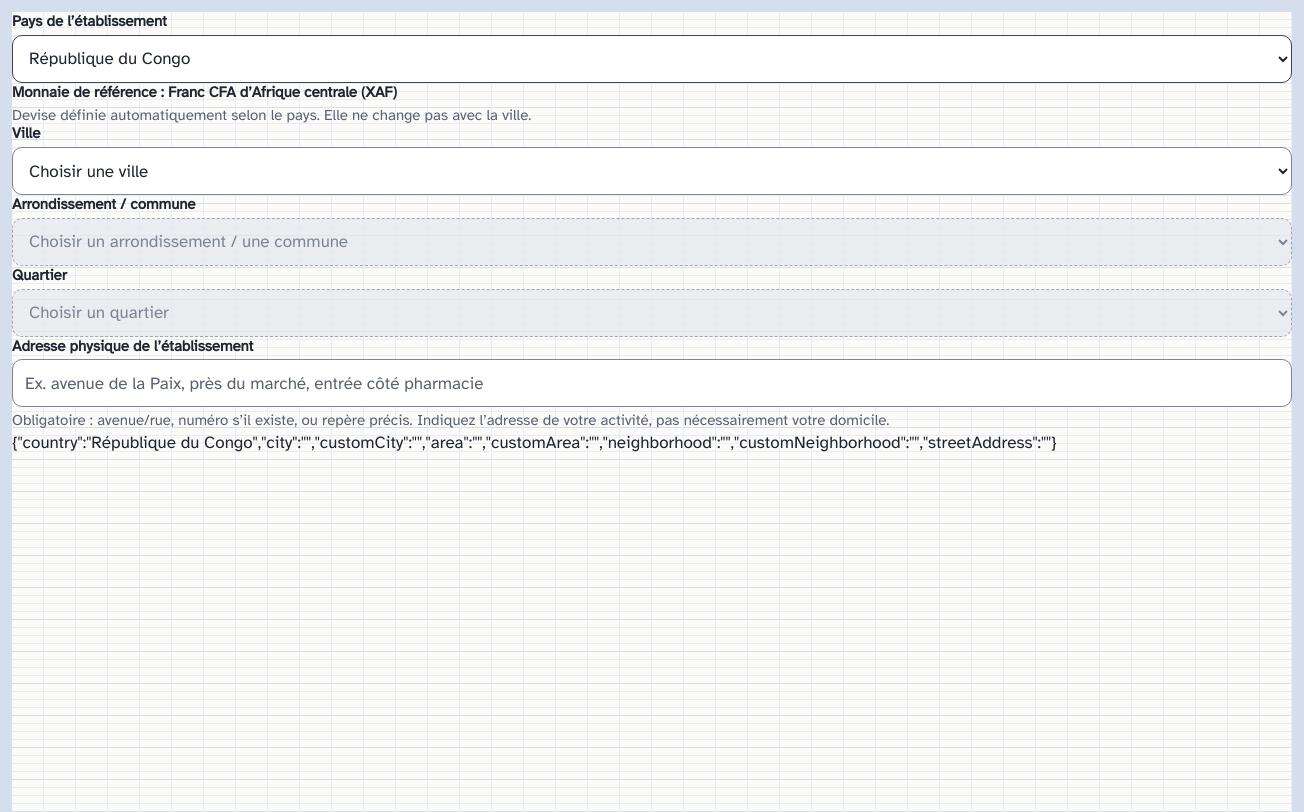
Test: CEMAC business address onboarding › displays Congo-first CEMAC countries and cascading Brazzaville districts
Select "Brazzaville" in the dropdown labelled "Ville" at point(652, 171), box [12,147,1292,195]
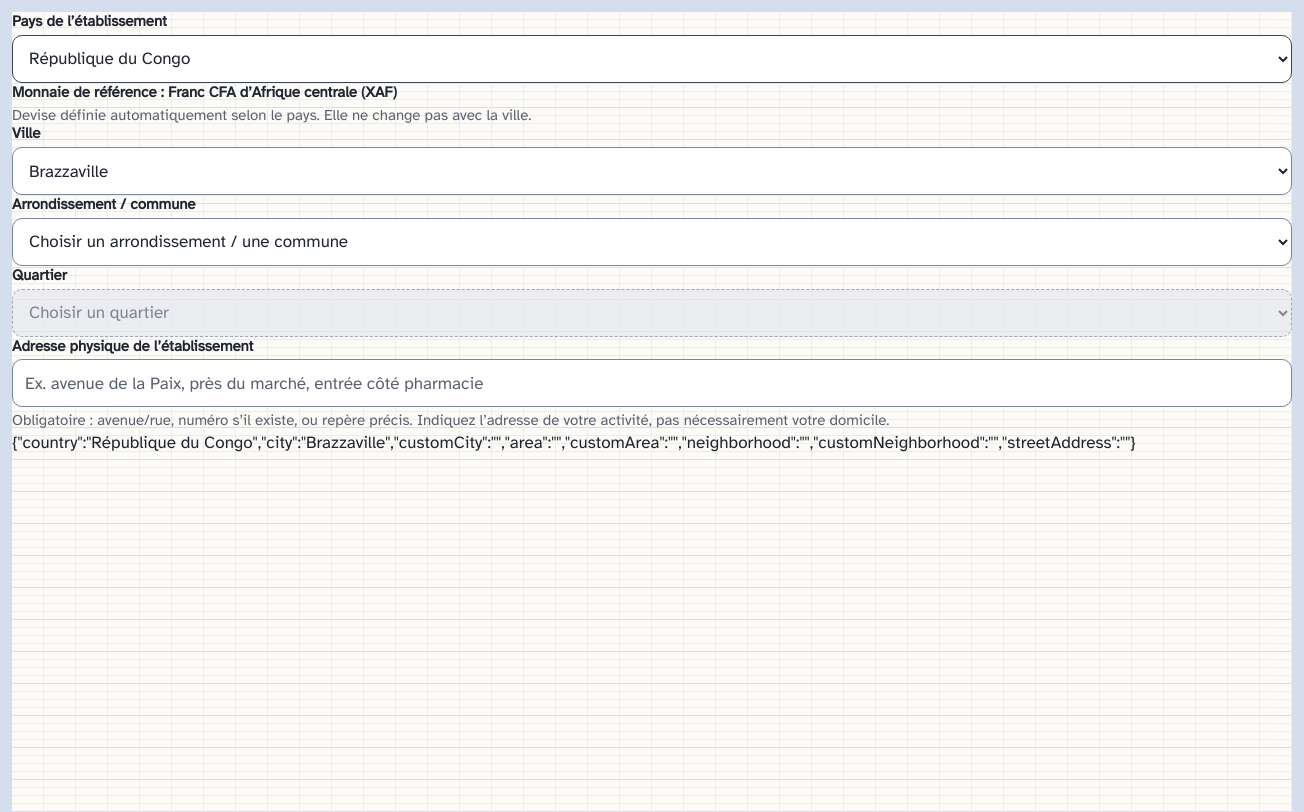
Select "Moungali" in the dropdown labelled "Arrondissement / commune" at point(652, 242), box [12,218,1292,266]
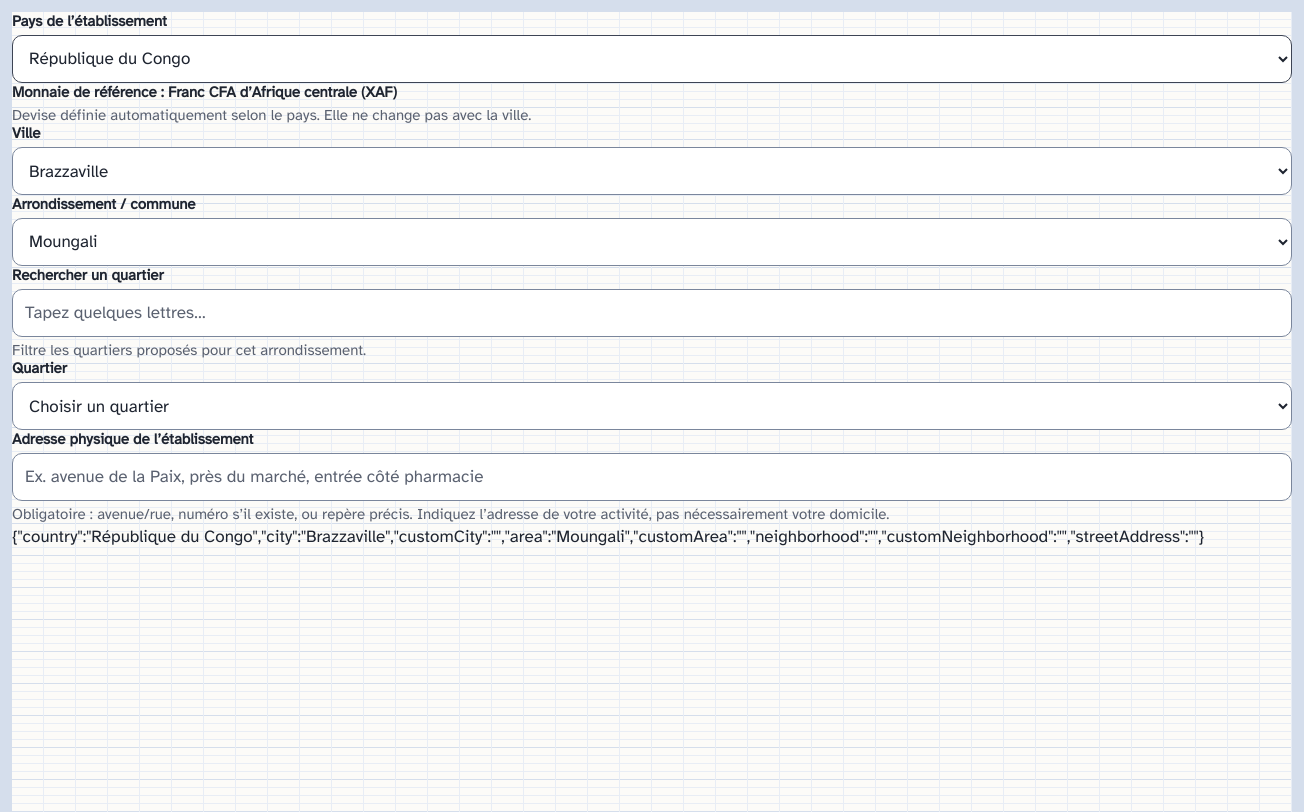
Type "Mouk" into the search field labelled "Rechercher un quartier" at point(652, 312), box [12,288,1292,336]
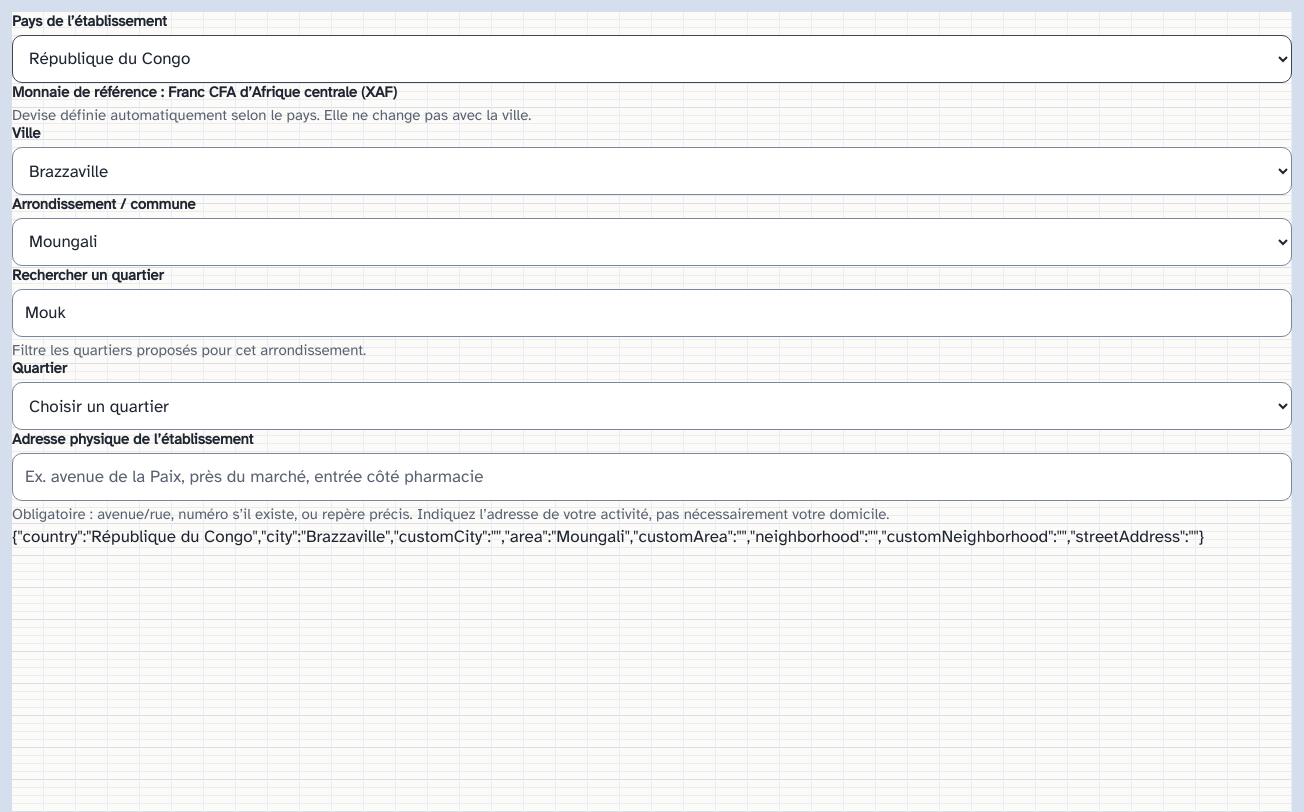
Select "Moukondo" in the dropdown labelled "Quartier" at point(652, 406), box [12,382,1292,430]
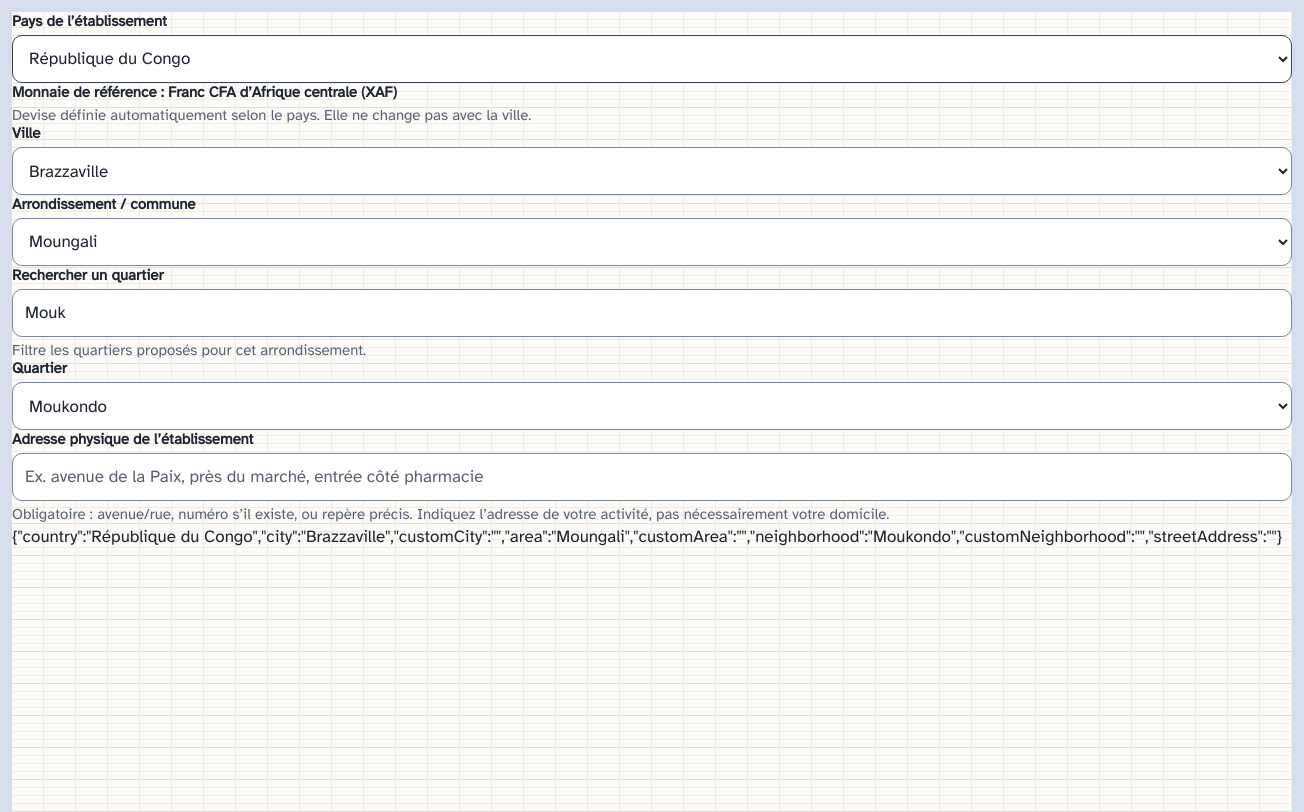
Type "Avenue de la Paix, près du marché" into the field labelled "Adresse physique de l’établissement" at point(652, 477), box [12,453,1292,501]
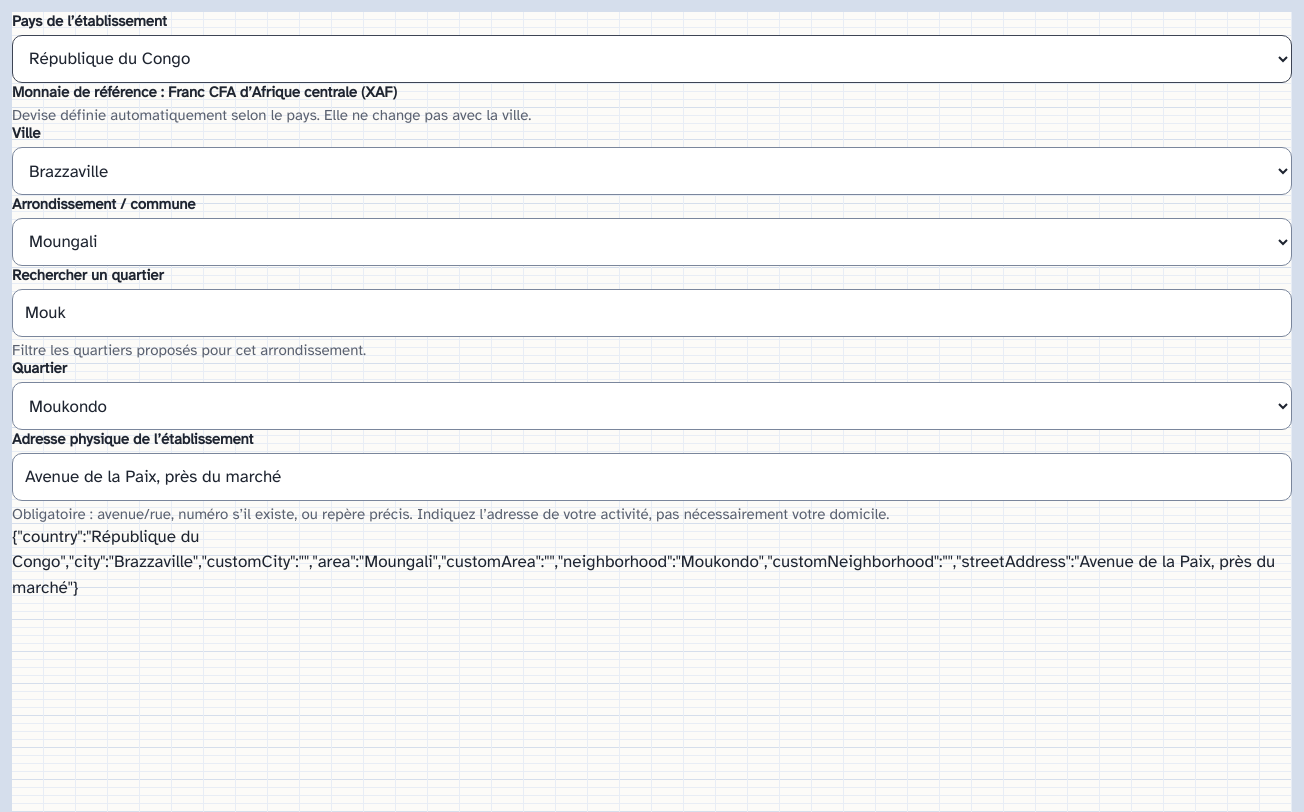
Result: the text with test id "address" shows "Moukondo" at [12,526,1275,598]
Result: the text with test id "address" shows "Avenue de la Paix" at [12,526,1275,598]
